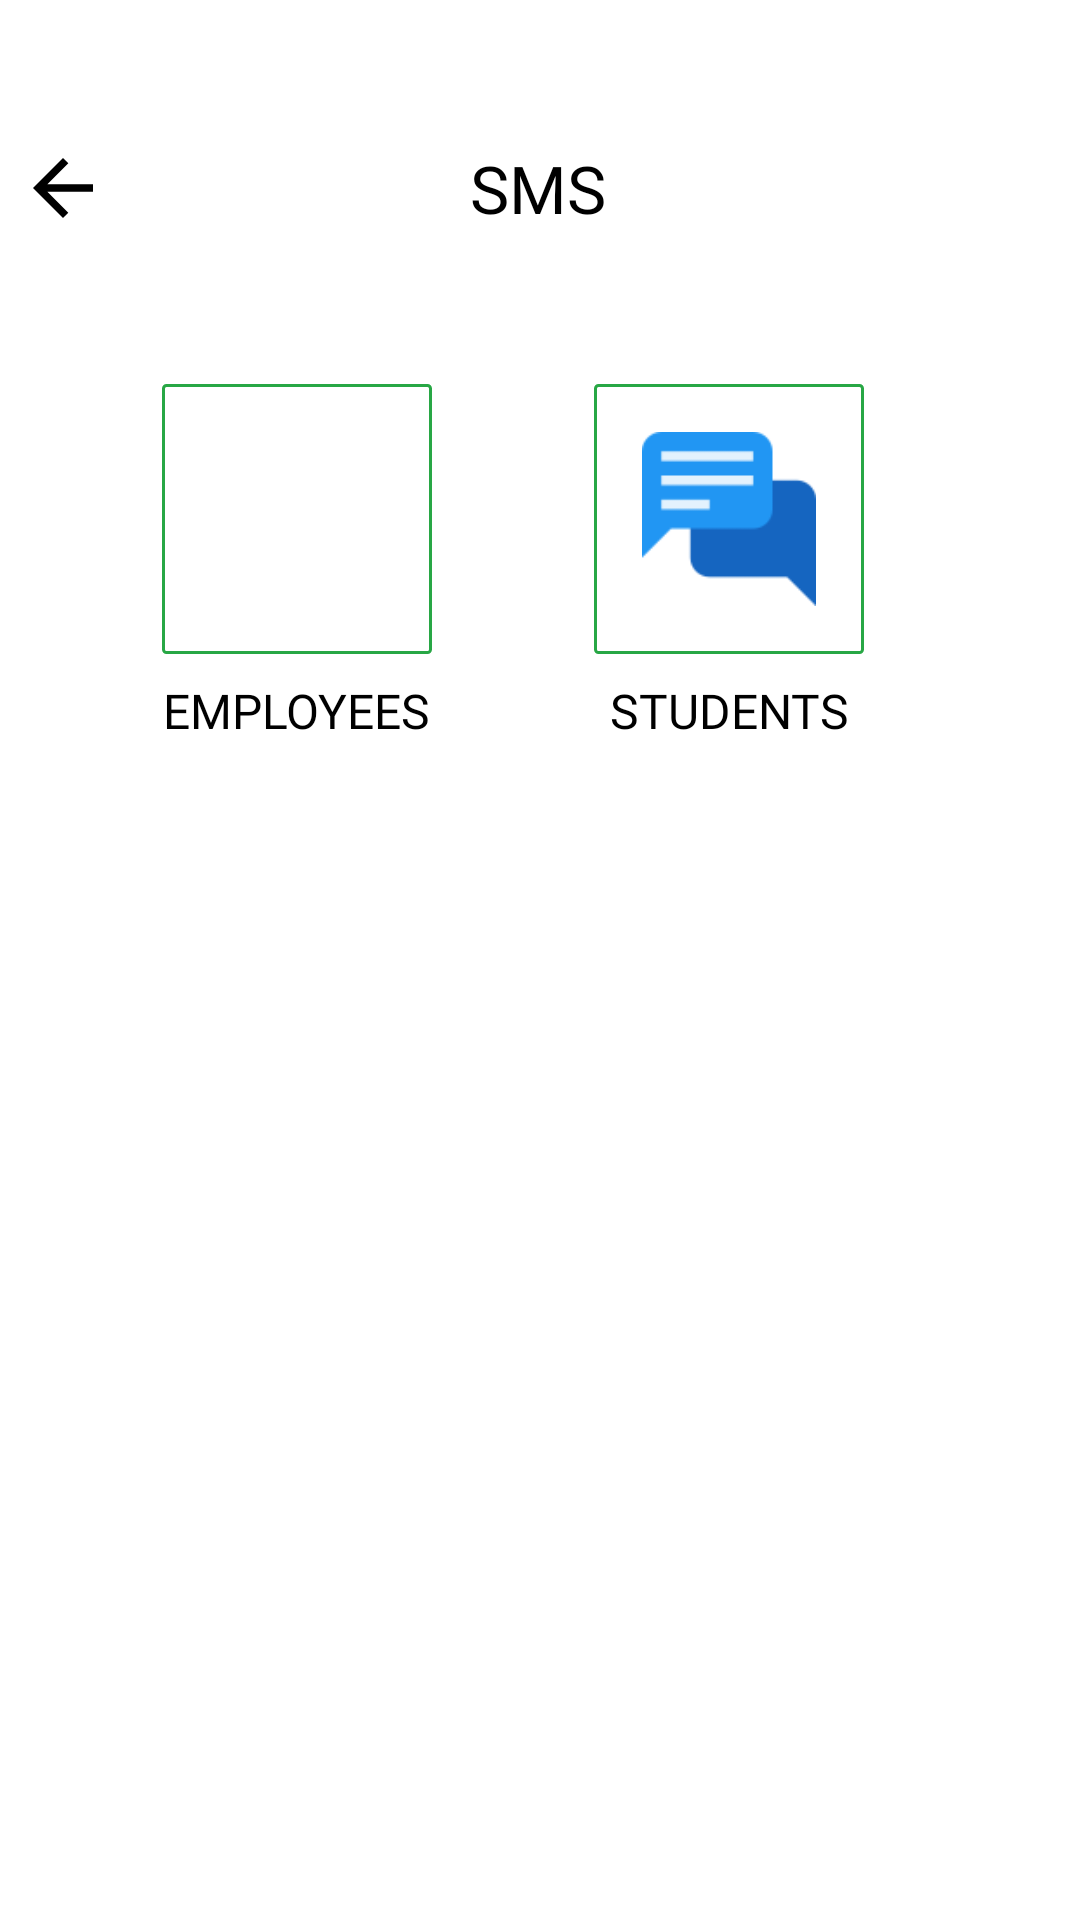

Icon click points for this 1080w x 1920h phone screenshot, format (x,y):
arrow back: (63,188)
